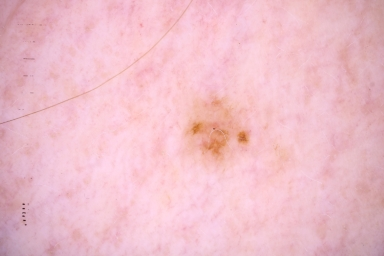nevus: (190, 117, 252, 152)
